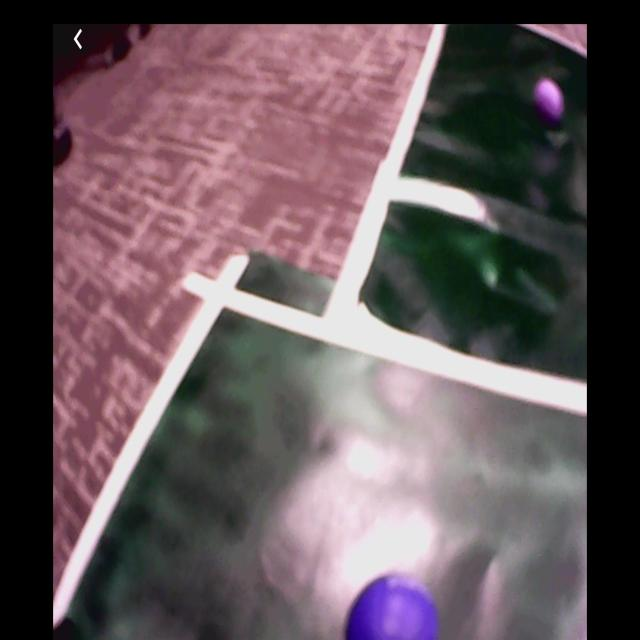ball: (346, 575, 443, 640), (536, 80, 563, 120)
